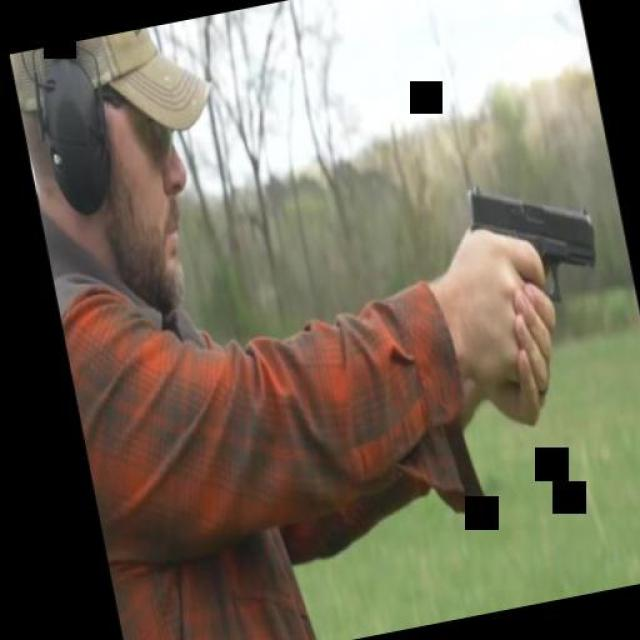gun: (460, 164, 621, 384)
